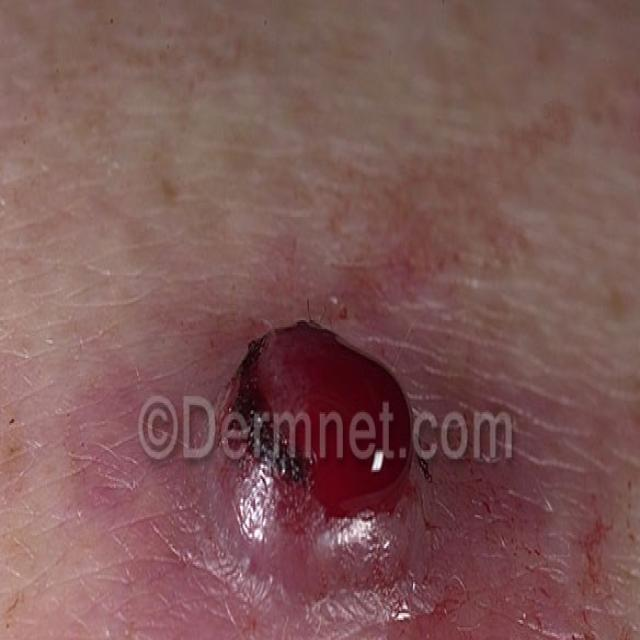Vascular Tumors: (188, 281, 463, 636), (521, 495, 640, 639)
